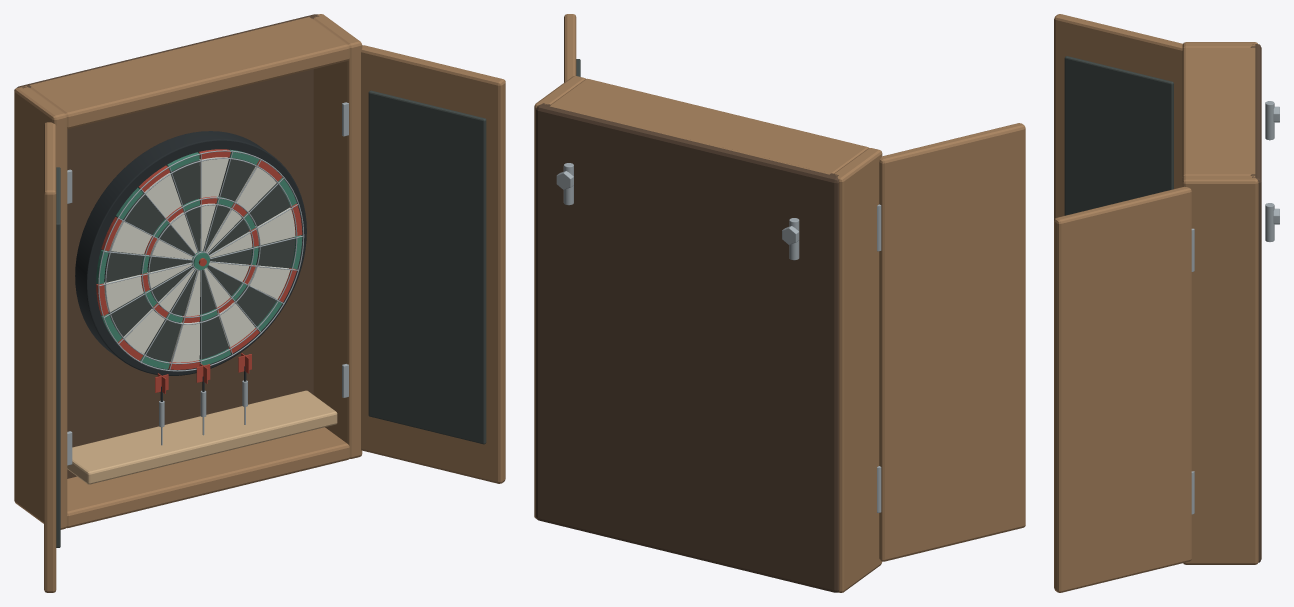
Rendered from city-open-dartboard-cabinet.glb.
3 renders of one model, left to right at view 1: azimuth 30°, elevation 25°; view 2: azimuth 150°, elevation 25°; view 3: azimuth 270°, elevation 25°, orthographic. The views are drawn at different scales.
Parts seen in each view (by area): view 1: Assembly | Warm plain laminated wood color, Assembly | Charcoal playing surfaces, Assembly | Dark sealed wood color, Assembly | Ivory playing surfaces, Assembly | Pale wood edge color, Assembly | Graphite fittings, Assembly | Satin equipment steel, Assembly | Muted red game details, Assembly | Muted green playing surface; view 2: Assembly | Dark sealed wood color, Assembly | Warm plain laminated wood color, Assembly | Satin equipment steel; view 3: Assembly | Warm plain laminated wood color, Assembly | Charcoal playing surfaces, Assembly | Dark sealed wood color, Assembly | Satin equipment steel.
Part boxes in pixels (left/top/right/bottom): Assembly | Warm plain laminated wood color: left=14, top=14, right=505, bottom=592; Assembly | Charcoal playing surfaces: left=56, top=90, right=486, bottom=547; Assembly | Dark sealed wood color: left=17, top=14, right=318, bottom=478; Assembly | Ivory playing surfaces: left=103, top=157, right=295, bottom=362; Assembly | Pale wood edge color: left=67, top=390, right=337, bottom=484; Assembly | Graphite fittings: left=75, top=131, right=306, bottom=401; Assembly | Satin equipment steel: left=67, top=102, right=348, bottom=465; Assembly | Muted red game details: left=96, top=149, right=302, bottom=393; Assembly | Muted green playing surface: left=96, top=149, right=302, bottom=369; Assembly | Dark sealed wood color: left=536, top=103, right=838, bottom=592; Assembly | Warm plain laminated wood color: left=534, top=14, right=1025, bottom=592; Assembly | Satin equipment steel: left=556, top=163, right=881, bottom=512; Assembly | Warm plain laminated wood color: left=1054, top=14, right=1258, bottom=592; Assembly | Charcoal playing surfaces: left=1064, top=56, right=1173, bottom=215; Assembly | Dark sealed wood color: left=1250, top=44, right=1261, bottom=562; Assembly | Satin equipment steel: left=1191, top=101, right=1279, bottom=514.
Size of the model in its own units: 0.9403 by 0.81 by 0.4304.
